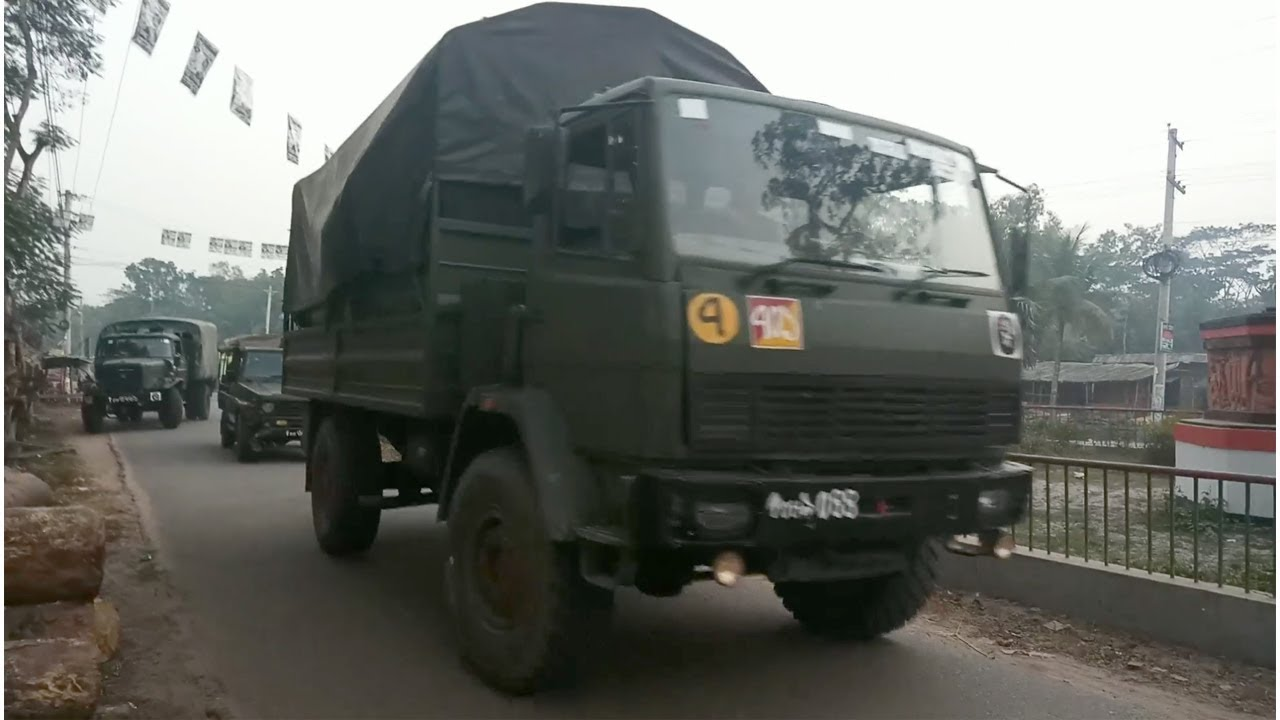army vehicle: (279, 1, 1037, 694), (80, 316, 217, 435), (215, 335, 307, 462)
